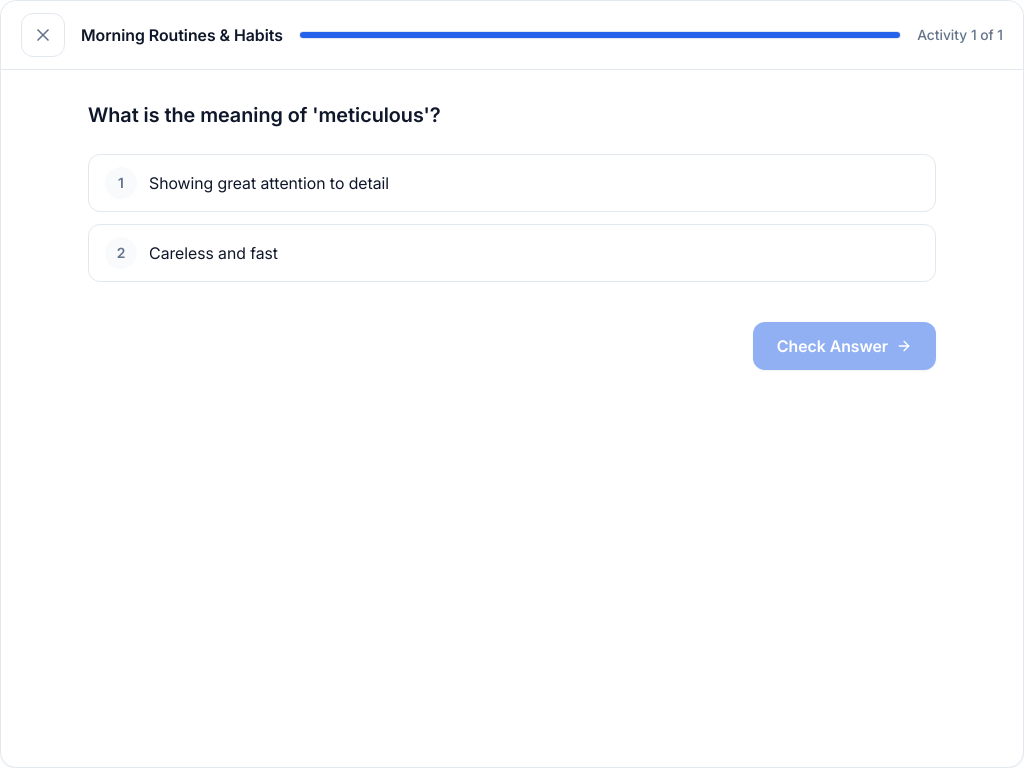
Test: A guest working through a lesson › says the result was not saved once the lesson is finished
Check: the heading "What is the meaning of 'meticulous'?" is shown, box [88, 103, 441, 127]
Click the radio button labelled "1 Showing great attention to detail".
click(121, 182)  # box [88, 154, 936, 212]
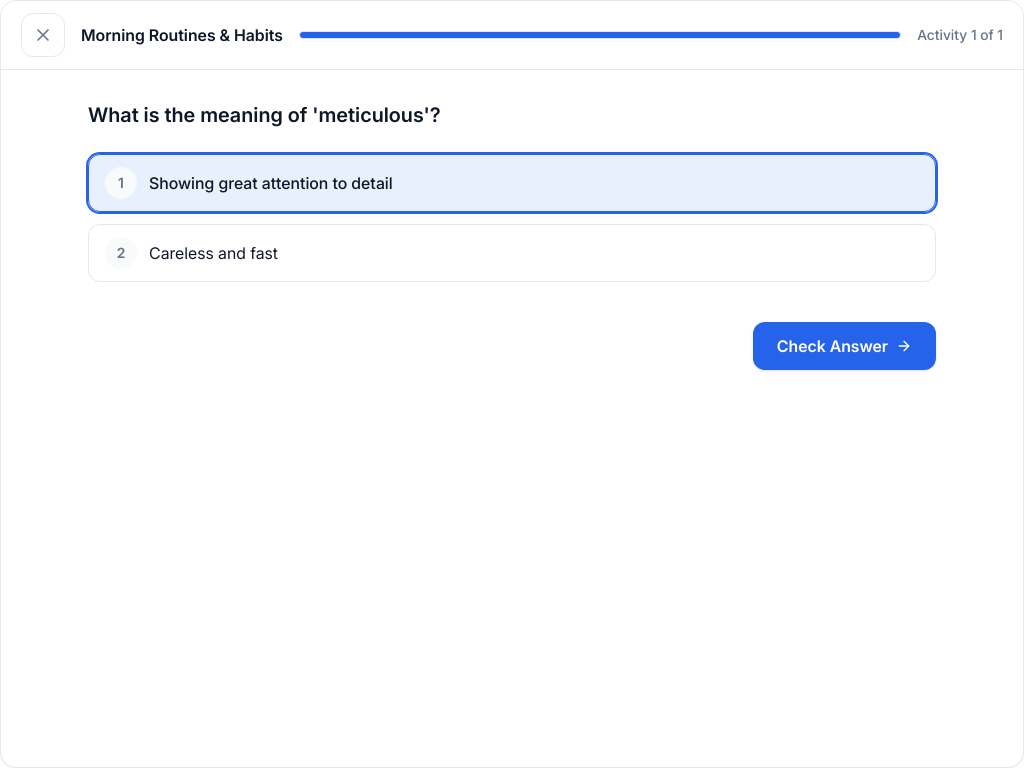
Click the button "Check Answer".
click(844, 346)  # box [753, 322, 936, 370]
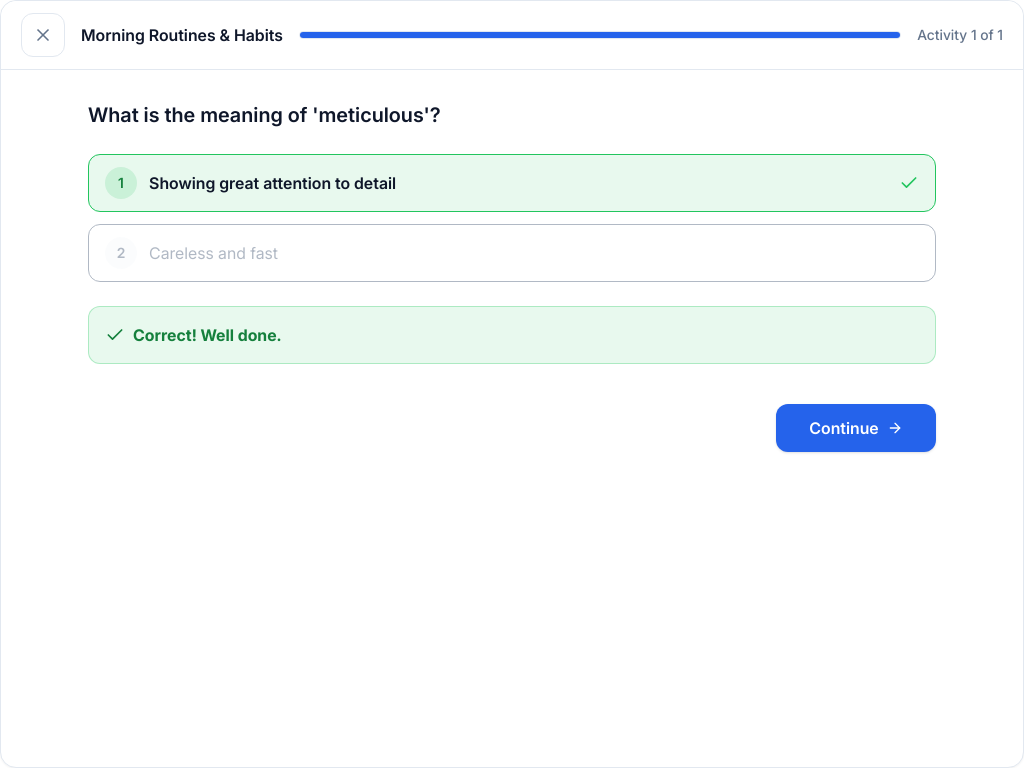
Click the button "Continue".
click(856, 428)  # box [776, 404, 936, 452]
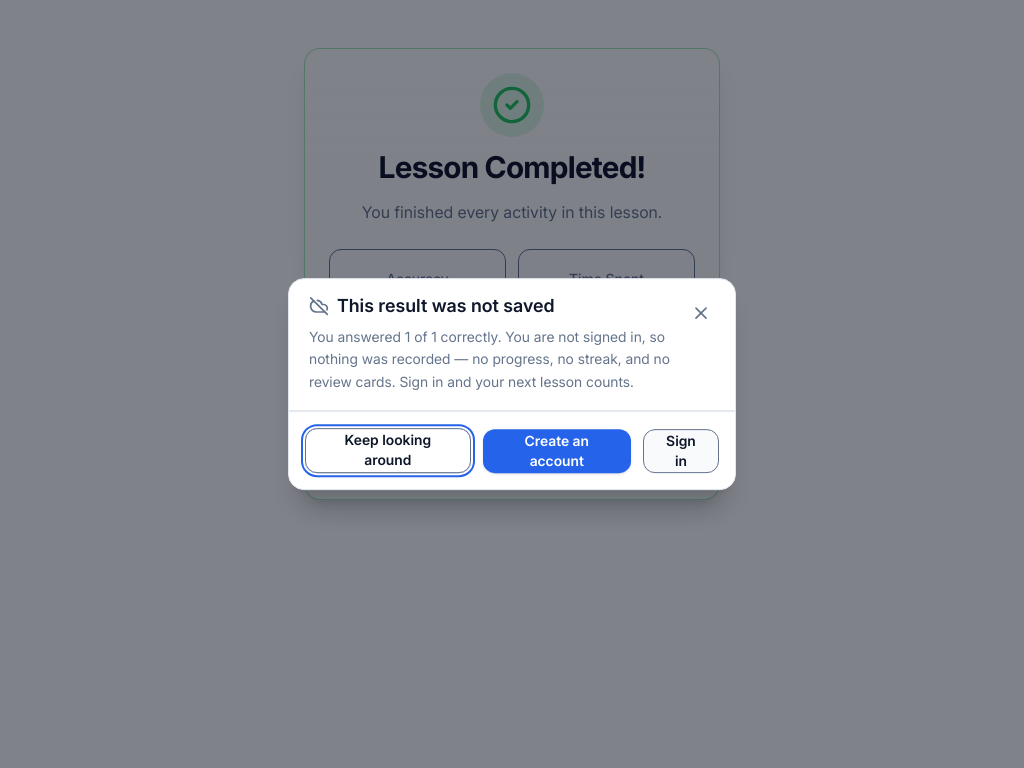
Check: the dialog shows "was not saved", box [337, 295, 555, 316]
Check: the link "Create an account" is shown, box [483, 428, 631, 473]
Check: the link "Sign in" is shown, box [643, 428, 719, 473]
Click the button "Keep looking around".
click(388, 450)  # box [305, 428, 471, 473]
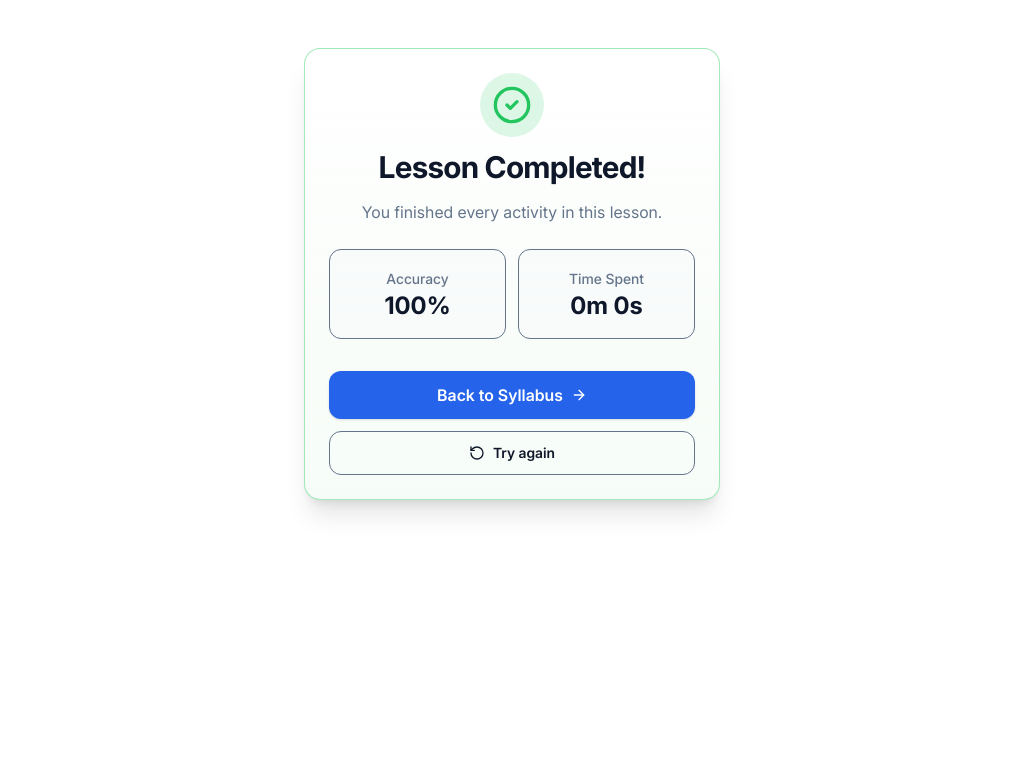
Check: the dialog is gone
